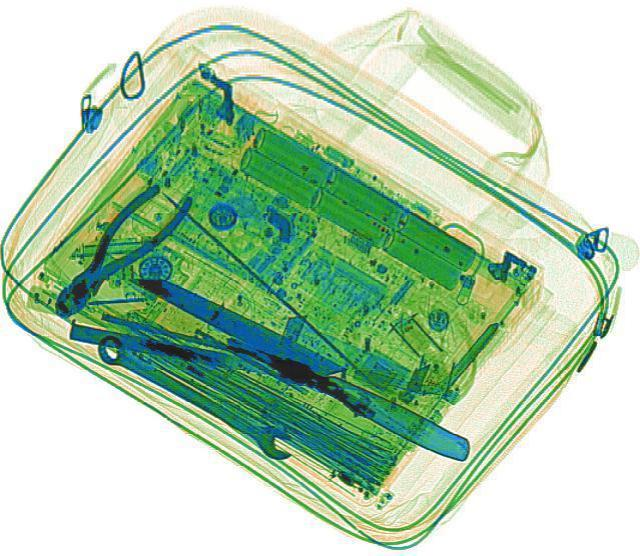Knife: (116, 264, 484, 464)
Pliers: (34, 173, 198, 325)
Wrench: (85, 328, 302, 461)
